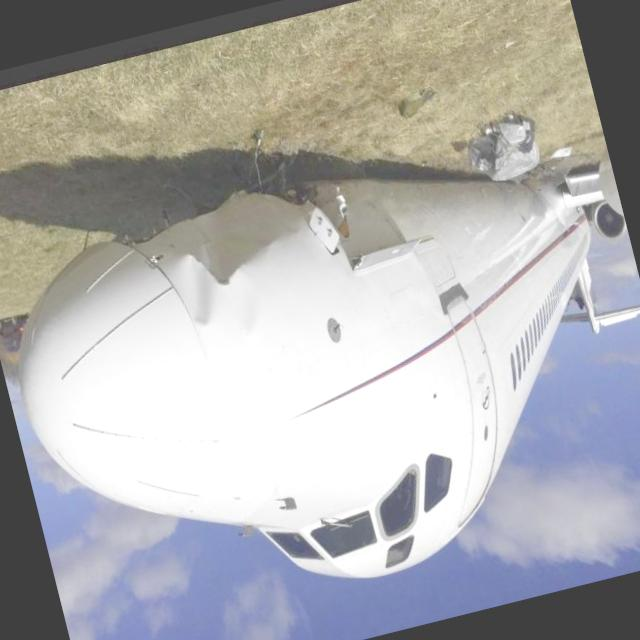dent: (182, 257, 224, 327), (226, 270, 266, 336)
